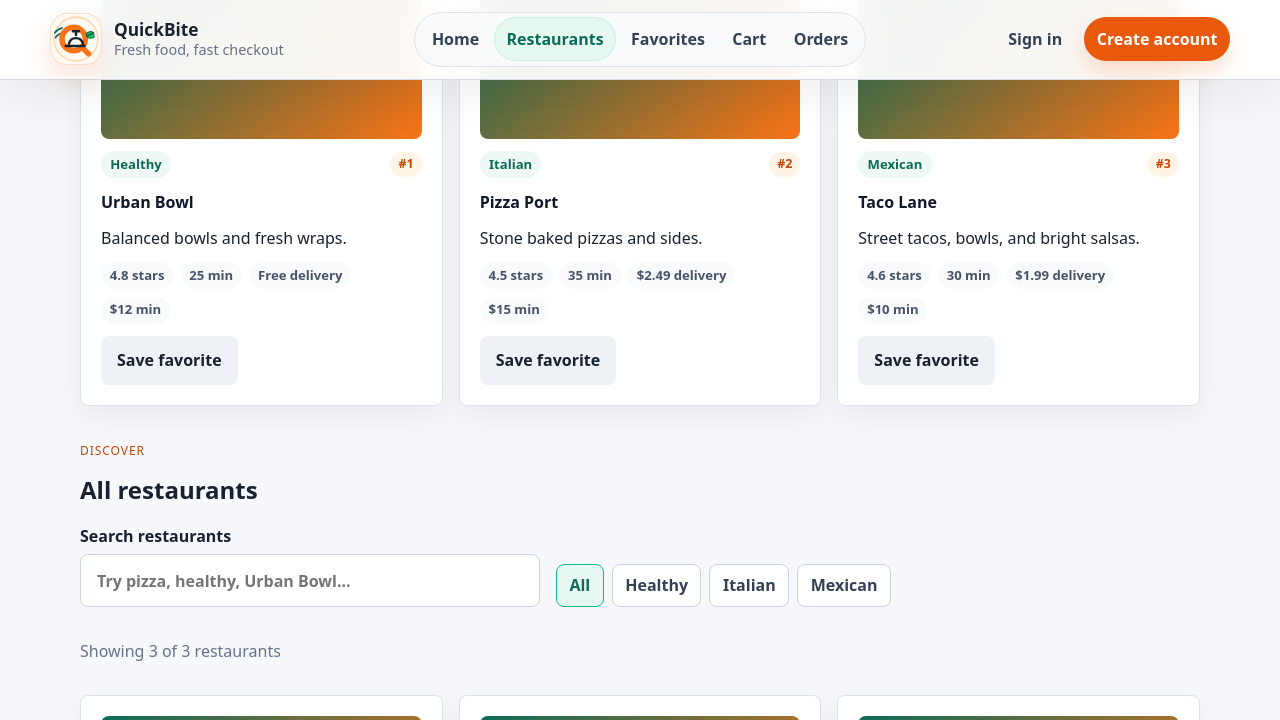
Test: QuickBite app shell › lets customers save favorite restaurants and see them on the favorites page
(page scrolled)
Click the 1st button "Save favorite" at (169, 360), box [101,336,238,385]
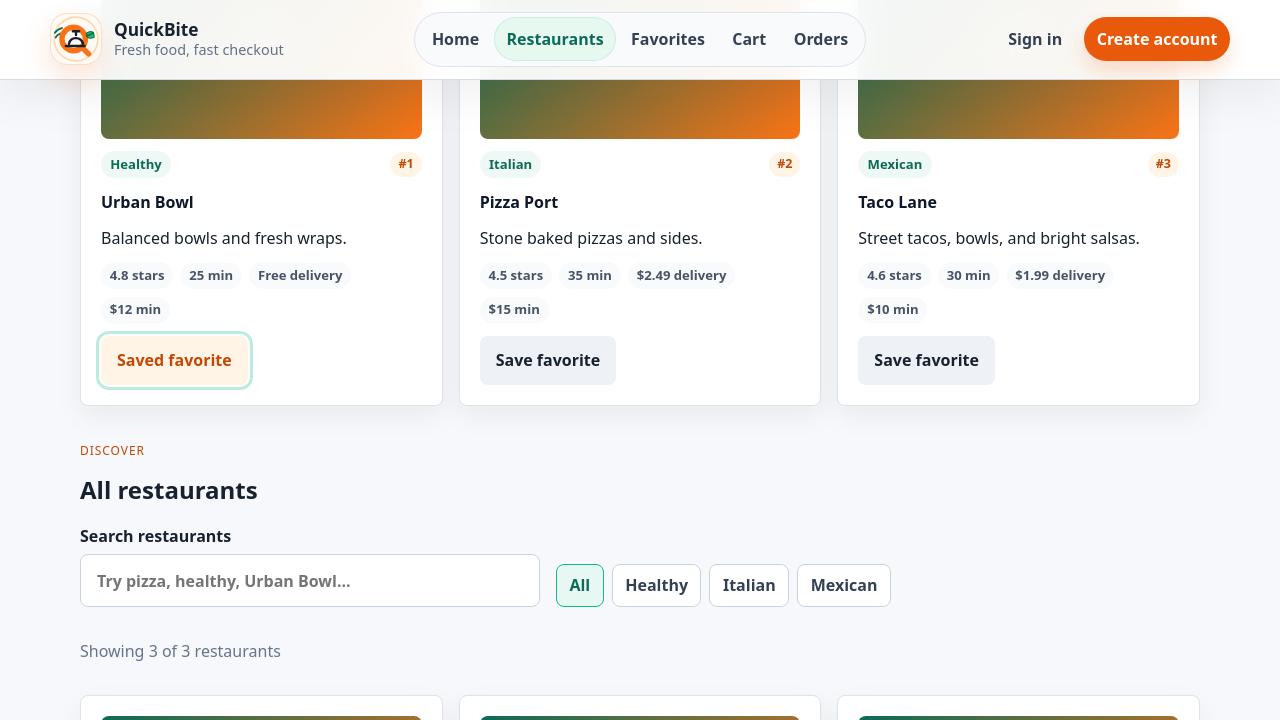
Expected: the button "Saved favorite" is shown, [101,336,248,385]
Click the link "Favorites" at (668, 39), box [631,28,705,50]
(page scrolled)
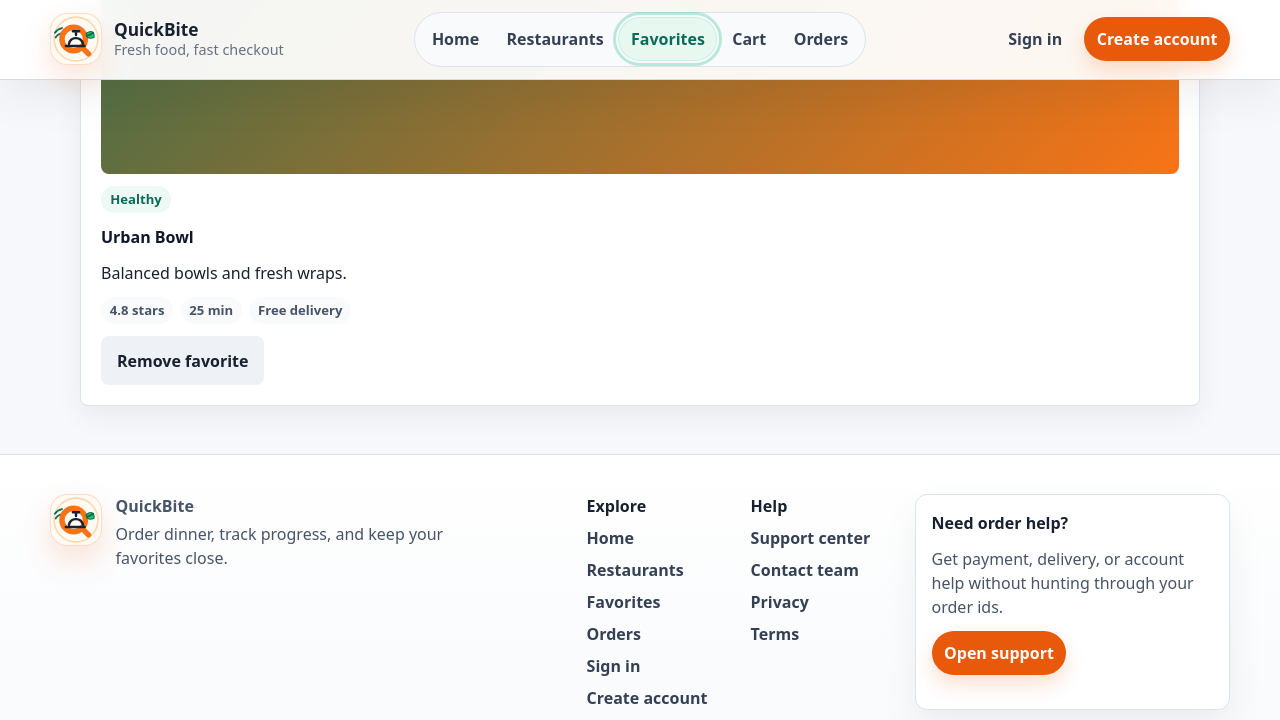
Expected: the link "Urban Bowl" is shown, [101,226,194,248]
Expected: the button "Remove favorite" is shown, [101,336,264,385]
